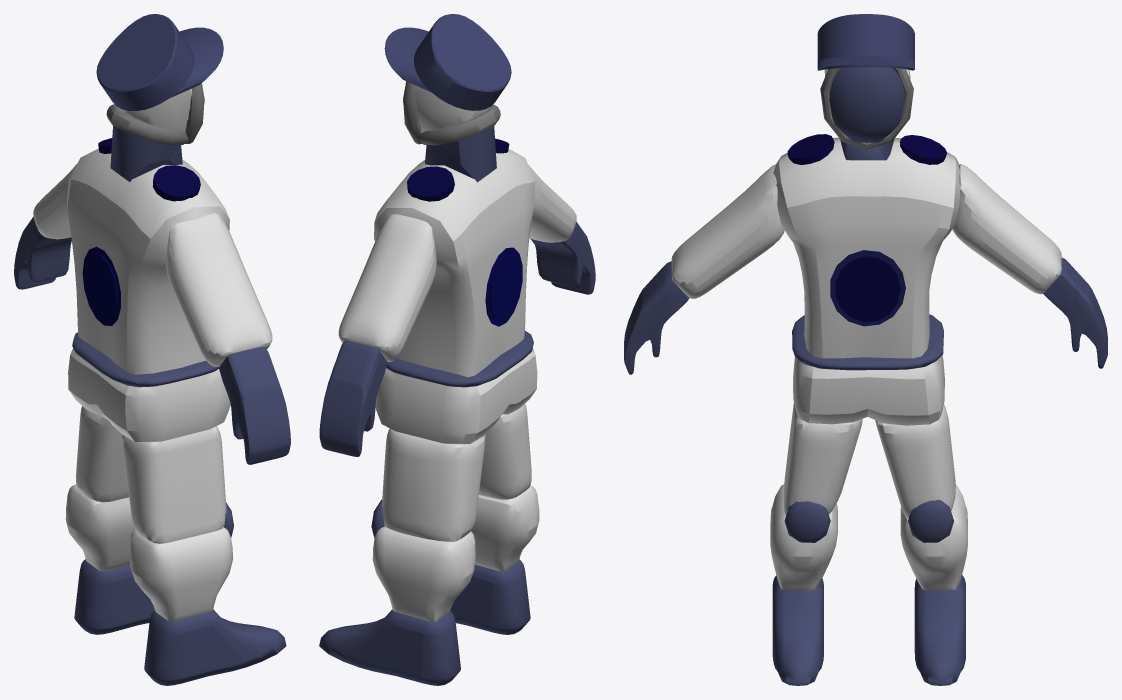
File: Captain 1.fbx
3 views of the same model, side by side, from view 1: azimuth 30°, elevation 25°; view 2: azimuth 150°, elevation 25°; view 3: azimuth 270°, elevation 25° (orthographic). The views are drawn at different scales.
Visible parts, largest first — view 1: Body, ArmRight, LegRight, Circle, Cube.006, Cube.004, BottomLegRight, HandRight, Cube.003, BottomLegRight.001, LegLeft, HandRight.001 (+9 smaller); view 2: Body, LegLeft, ArmLeft, Cube.006, Circle, Cube.003, BottomLegRight.001, HandRight.001, Cube.004, BottomLegRight, LegRight, HandRight (+9 smaller); view 3: Body, Cube.006, ArmRight, ArmLeft, LegLeft, LegRight, Circle, BlackCover, Cube.003, Cube.004, BottomLegRight, BottomLegRight.001 (+11 smaller).
Part boxes in pixels (x1=…): Body: x1=67, y1=148, x2=229, y2=374; ArmRight: x1=166, y1=213, x2=272, y2=366; LegRight: x1=122, y1=426, x2=226, y2=543; Circle: x1=96, y1=14, x2=223, y2=111; Cube.006: x1=68, y1=348, x2=230, y2=442; Cube.004: x1=144, y1=609, x2=286, y2=685; BottomLegRight: x1=129, y1=527, x2=232, y2=621; HandRight: x1=219, y1=346, x2=290, y2=464; Cube.003: x1=74, y1=559, x2=154, y2=634; BottomLegRight.001: x1=65, y1=484, x2=135, y2=571; LegLeft: x1=76, y1=406, x2=128, y2=502; HandRight.001: x1=14, y1=217, x2=71, y2=289; Body: x1=374, y1=149, x2=534, y2=377; LegLeft: x1=382, y1=428, x2=485, y2=541; ArmLeft: x1=338, y1=214, x2=436, y2=361; Cube.006: x1=375, y1=348, x2=537, y2=444; Circle: x1=384, y1=14, x2=511, y2=110; Cube.003: x1=319, y1=609, x2=460, y2=685; BottomLegRight.001: x1=372, y1=526, x2=475, y2=621; HandRight.001: x1=319, y1=340, x2=387, y2=456; Cube.004: x1=450, y1=559, x2=530, y2=634; BottomLegRight: x1=471, y1=485, x2=539, y2=571; LegRight: x1=479, y1=403, x2=531, y2=499; HandRight: x1=530, y1=221, x2=595, y2=294; Body: x1=773, y1=137, x2=960, y2=358; Cube.006: x1=793, y1=355, x2=944, y2=425; ArmRight: x1=671, y1=164, x2=784, y2=298; ArmLeft: x1=952, y1=164, x2=1061, y2=294; LegLeft: x1=875, y1=404, x2=955, y2=518; LegRight: x1=784, y1=402, x2=862, y2=515; Circle: x1=817, y1=14, x2=914, y2=70; BlackCover: x1=829, y1=67, x2=904, y2=142; Cube.003: x1=914, y1=575, x2=965, y2=685; Cube.004: x1=772, y1=575, x2=823, y2=685; BottomLegRight: x1=770, y1=484, x2=837, y2=590; BottomLegRight.001: x1=900, y1=485, x2=967, y2=590.
Size of the model in its own units: 115 by 436 by 298.
